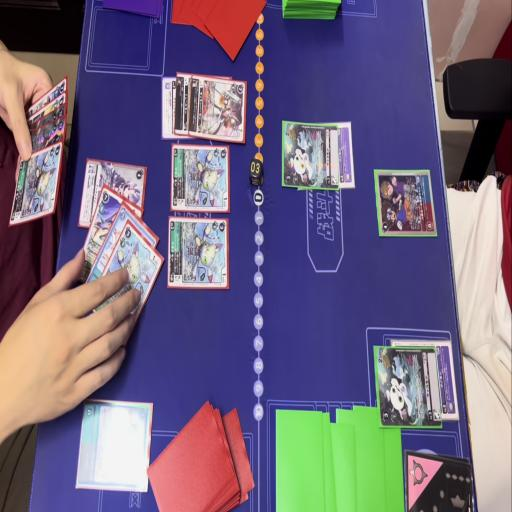card: (89, 229, 163, 337), (75, 396, 153, 487), (371, 344, 444, 428), (375, 159, 439, 251), (164, 214, 228, 297), (79, 158, 146, 233), (72, 187, 124, 283), (82, 204, 129, 304), (189, 69, 248, 147), (8, 136, 61, 222), (170, 144, 232, 214), (280, 124, 340, 190), (18, 110, 71, 162), (437, 340, 459, 422), (337, 118, 359, 192), (173, 65, 192, 140), (160, 72, 176, 143)
